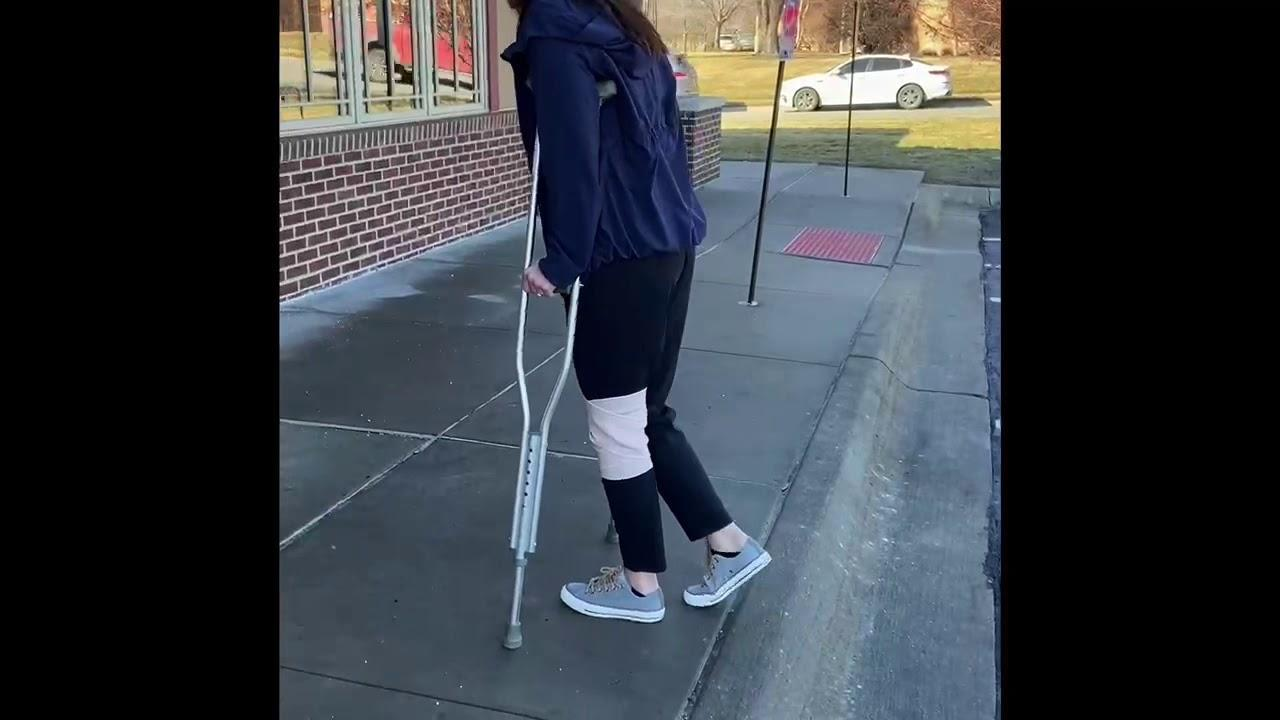crutches: (458, 1, 779, 668)
